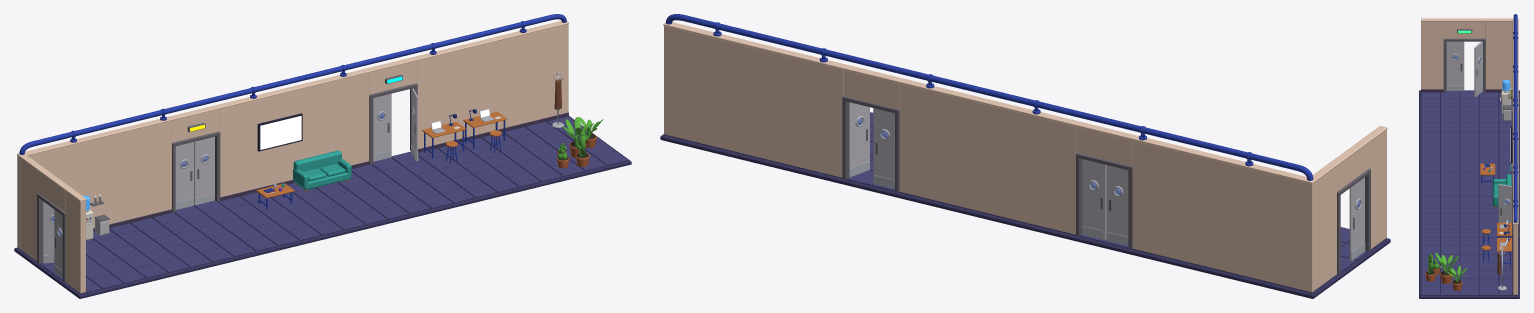
The model's file is hallway.glb.
3 views of the same model, side by side, from view 1: azimuth 30°, elevation 25°; view 2: azimuth 150°, elevation 25°; view 3: azimuth 270°, elevation 25° (orthographic). The views are drawn at different scales.
Parts seen in each view (by area): view 1: BackWall, Floor, Slab, EndWall, Rail, WallCap, DoorFrames, Sofa, DoorAisle0R, DoorAisle0L, DoorAisle1L, Skirting (+7 smaller); view 2: BackWall, Rail, EndWall, WallCap, Slab, DoorFrames, Floor, DoorAisle0R, DoorAisle0L, DoorAisle1L, DoorAisle1R, DoorEntryL; view 3: Floor, EndWall, Slab, WallCap, Rail, DoorEntryL, DoorFrames, DoorAisle1R, Plants, DoorEntryR, Desks, Pots (+11 smaller).
Part boxes in pixels (x1,y1,x2,y2): BackWall: (17, 24, 568, 248); Floor: (18, 116, 627, 293); Slab: (14, 116, 631, 298); EndWall: (20, 158, 85, 293); Rail: (19, 14, 566, 154); WallCap: (17, 21, 568, 201); DoorFrames: (37, 83, 417, 282); Sofa: (293, 150, 351, 191); DoorAisle0R: (194, 136, 214, 205); DoorAisle0L: (175, 142, 194, 209); DoorAisle1L: (373, 93, 391, 161); Skirting: (86, 112, 568, 291); BackWall: (664, 26, 1315, 292); Rail: (665, 14, 1313, 180); EndWall: (1316, 130, 1386, 289); WallCap: (663, 22, 1387, 183); Slab: (660, 134, 1390, 298); DoorFrames: (842, 96, 1370, 274); Floor: (665, 112, 1385, 293); DoorAisle0R: (1082, 159, 1106, 240); DoorAisle0L: (1106, 165, 1128, 245); DoorAisle1L: (873, 108, 894, 188); DoorAisle1R: (849, 102, 869, 177); DoorEntryL: (1349, 177, 1365, 260); Floor: (1421, 90, 1517, 295); EndWall: (1421, 21, 1512, 89); Slab: (1419, 90, 1519, 298); WallCap: (1421, 18, 1518, 224); Rail: (1513, 14, 1518, 222); DoorEntryL: (1446, 41, 1464, 90); DoorFrames: (1443, 38, 1519, 237); DoorAisle1R: (1498, 184, 1511, 222); Plants: (1428, 253, 1466, 282); DoorEntryR: (1474, 41, 1482, 97); Desks: (1497, 222, 1511, 267); Pots: (1425, 266, 1462, 290).
Bounding box in the file's own units: 20.16 × 3.79 × 4.16.
